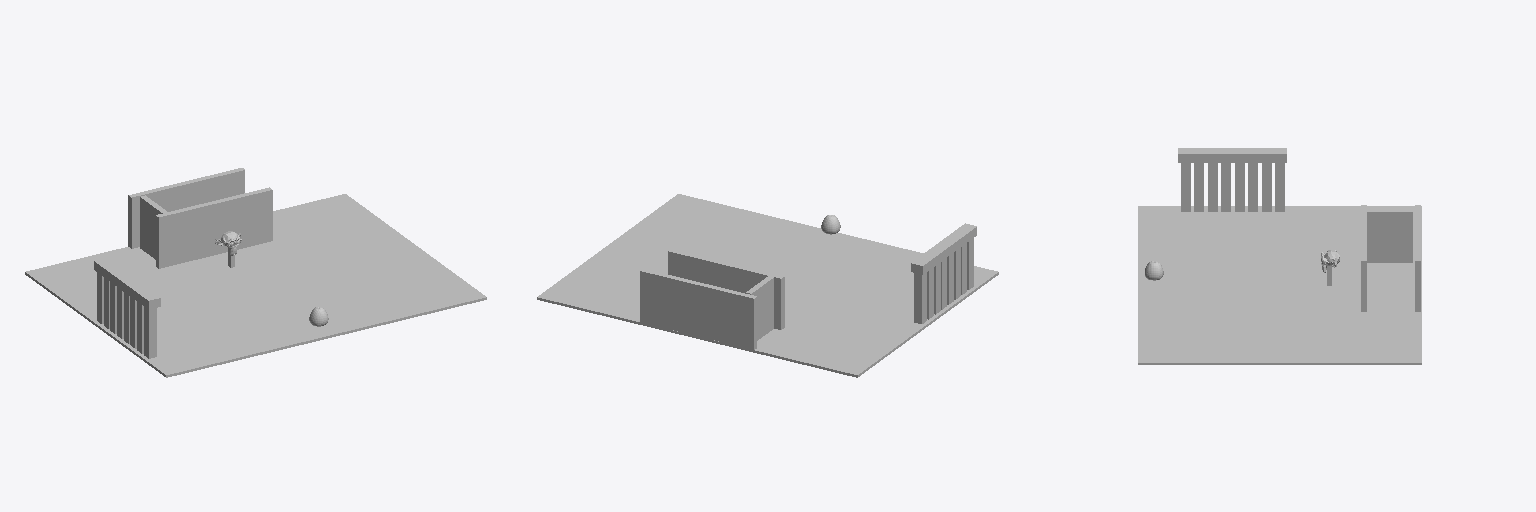
3 views of the same model, side by side, from view 1: azimuth 30°, elevation 25°; view 2: azimuth 150°, elevation 25°; view 3: azimuth 270°, elevation 25° (orthographic).
Parts seen in each view (by area): view 1: Cube, Cube.001, Cube.003, Cube.013, Cube.002, Cube.010; view 2: Cube, Cube.003, Cube.001, Cube.013, Cube.002, Cube.005; view 3: Cube, Cube.002, Cube.013, Cube.001, Cube.003.
Part boxes in pixels (bbox=[...]): Cube: bbox=[25, 194, 486, 377]; Cube.001: bbox=[156, 187, 272, 268]; Cube.003: bbox=[128, 168, 244, 248]; Cube.013: bbox=[94, 258, 160, 309]; Cube.002: bbox=[140, 195, 166, 259]; Cube.010: bbox=[144, 307, 156, 358]; Cube: bbox=[537, 194, 998, 377]; Cube.003: bbox=[640, 269, 756, 349]; Cube.001: bbox=[668, 249, 784, 329]; Cube.013: bbox=[911, 223, 976, 274]; Cube.002: bbox=[746, 276, 773, 340]; Cube.005: bbox=[914, 272, 926, 323]; Cube: bbox=[1138, 206, 1421, 364]; Cube.002: bbox=[1367, 209, 1412, 262]; Cube.013: bbox=[1178, 148, 1286, 162]; Cube.001: bbox=[1361, 205, 1366, 311]; Cube.003: bbox=[1415, 205, 1420, 311].
Bounding box in the file's own units: 32.67 × 6.04 × 24.98.